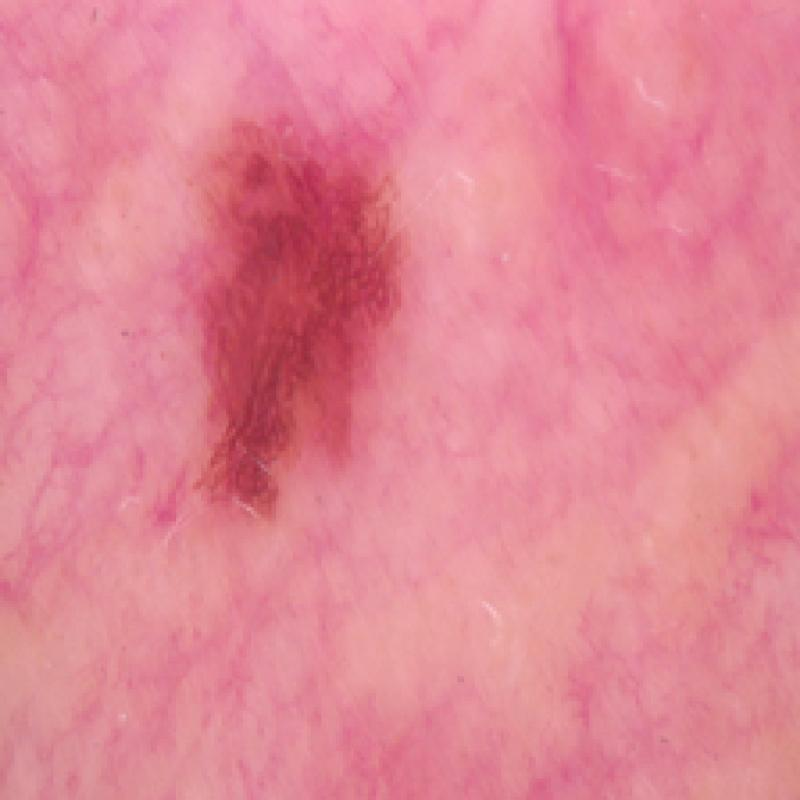benign: (121, 76, 464, 550)
